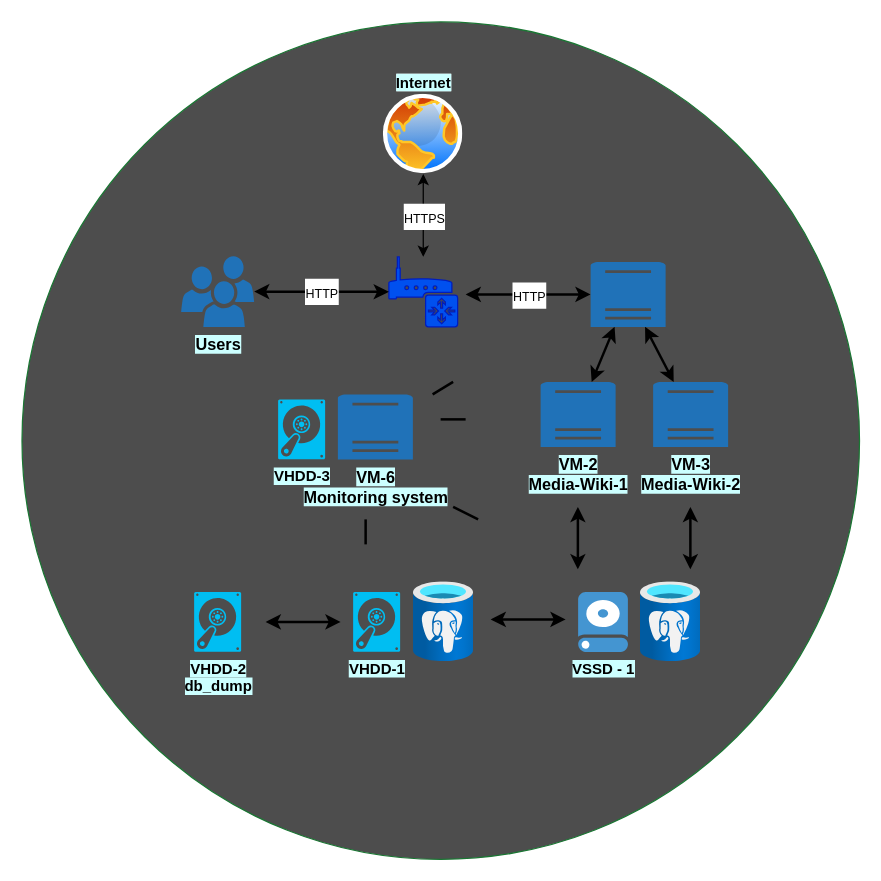
Some shapes in this 881 by 881 pixel diagram are drawn without their labels. Here are the shapes that lost their labels. From the top down, the centre of each, then its label:
At pixel 423 291: "Router".
At pixel 627 293: "VM-1 Proxy-server".
At pixel 443 621: "VM-5 PostgreSQL-Standby".
At pixel 670 621: "VM-4 PostgreSQL-Primary".
